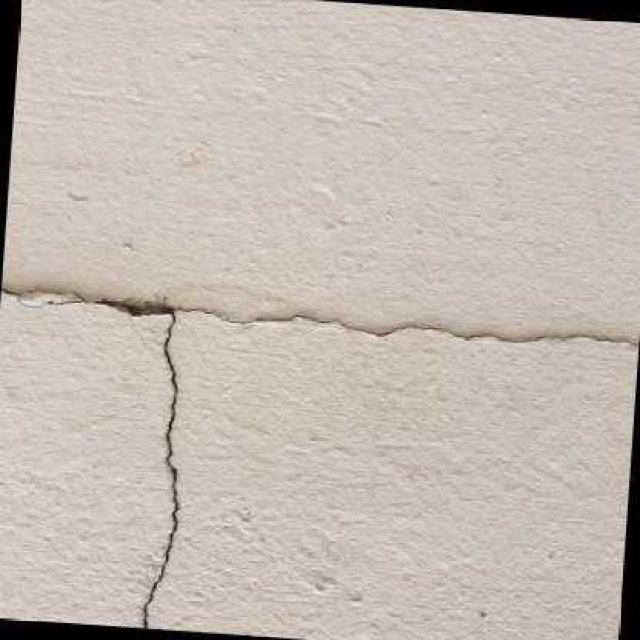D00: (1, 287, 639, 629)
